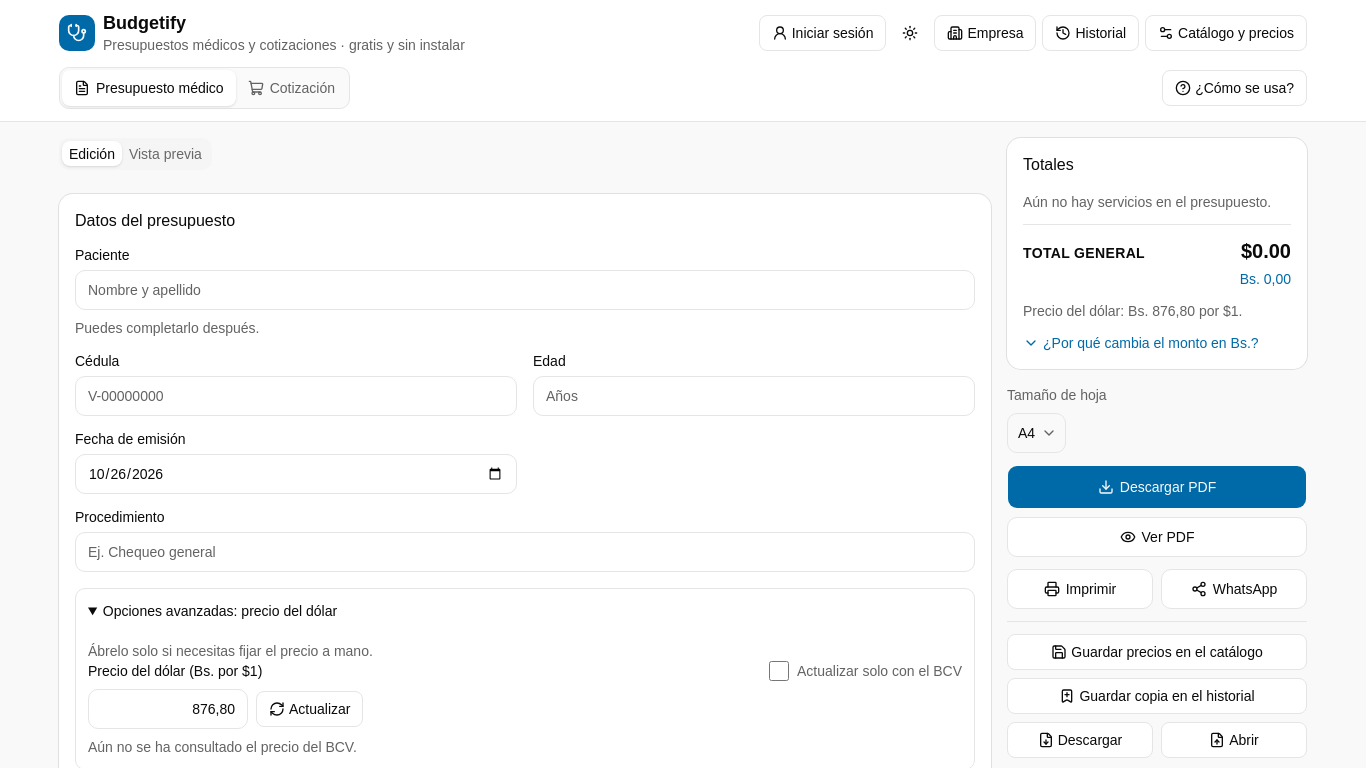
Scenario: App · interacciones › encabeza la hoja con el profesional en modo independiente
Click the tab "Vista previa". click: (165, 154)
box: x1=122 y1=141 x2=209 y2=166
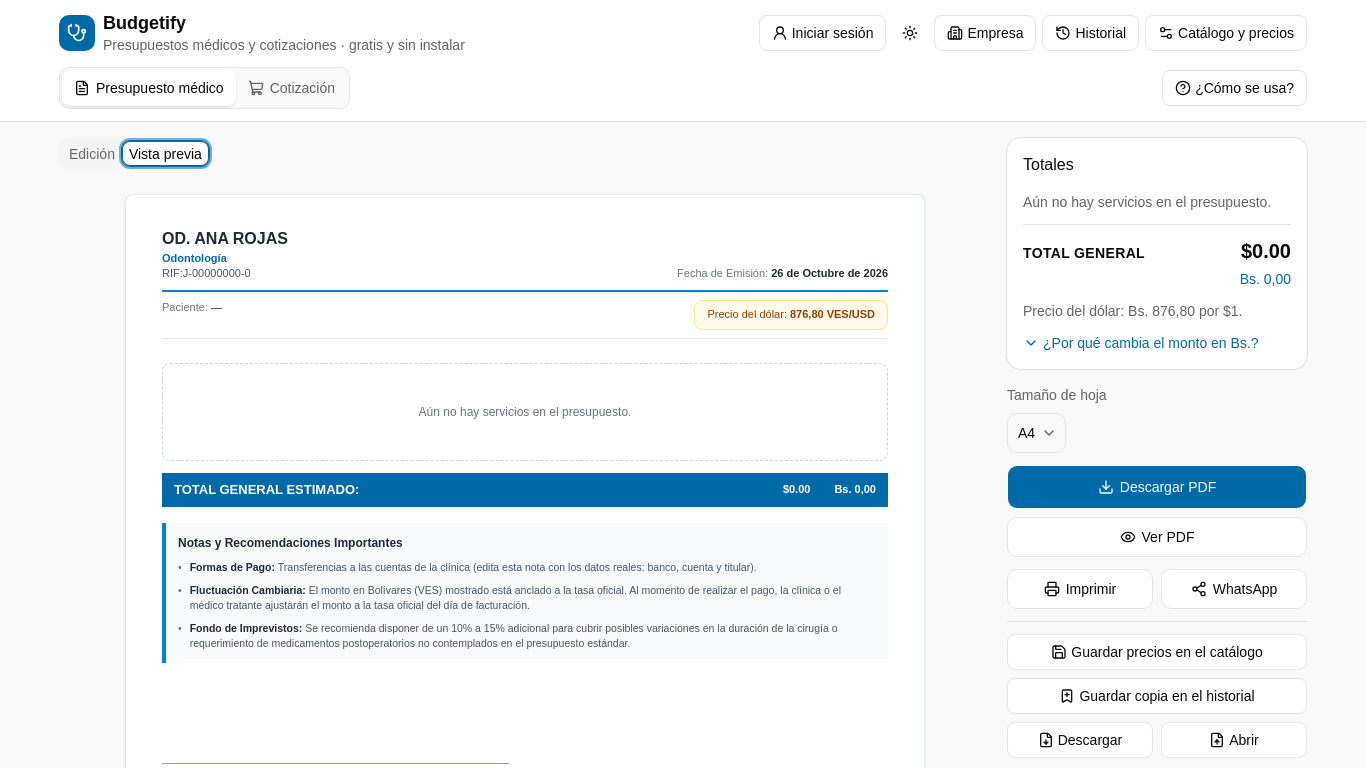
Check: the text "Od. Ana Rojas" is shown, box x1=162 y1=226 x2=288 y2=250
Check: the text "Odontología" is shown, box x1=162 y1=252 x2=227 y2=264
